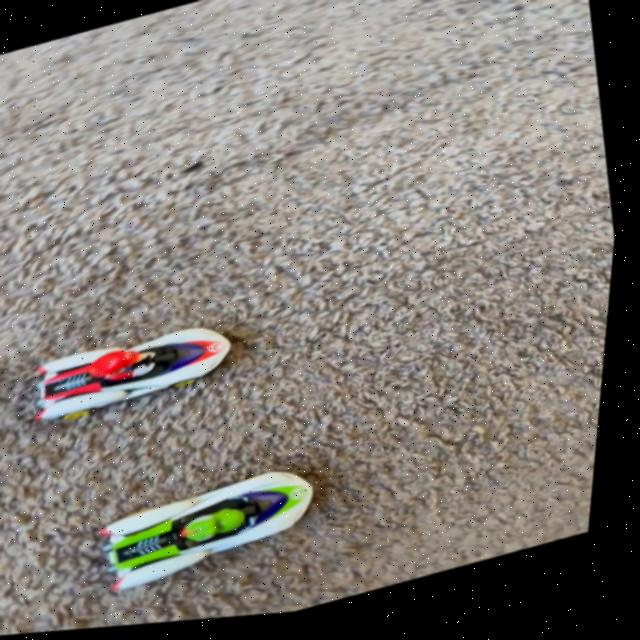mario: (13, 286, 266, 446)
yoshi: (85, 428, 361, 622)
